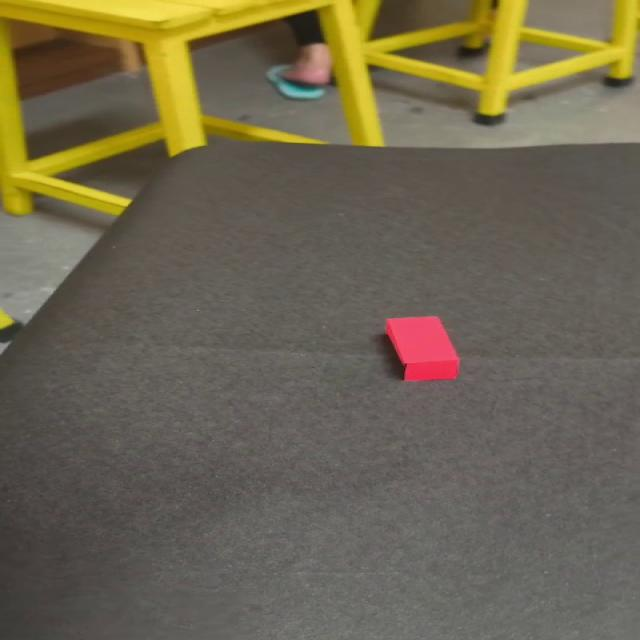red block: (383, 315, 460, 381)
